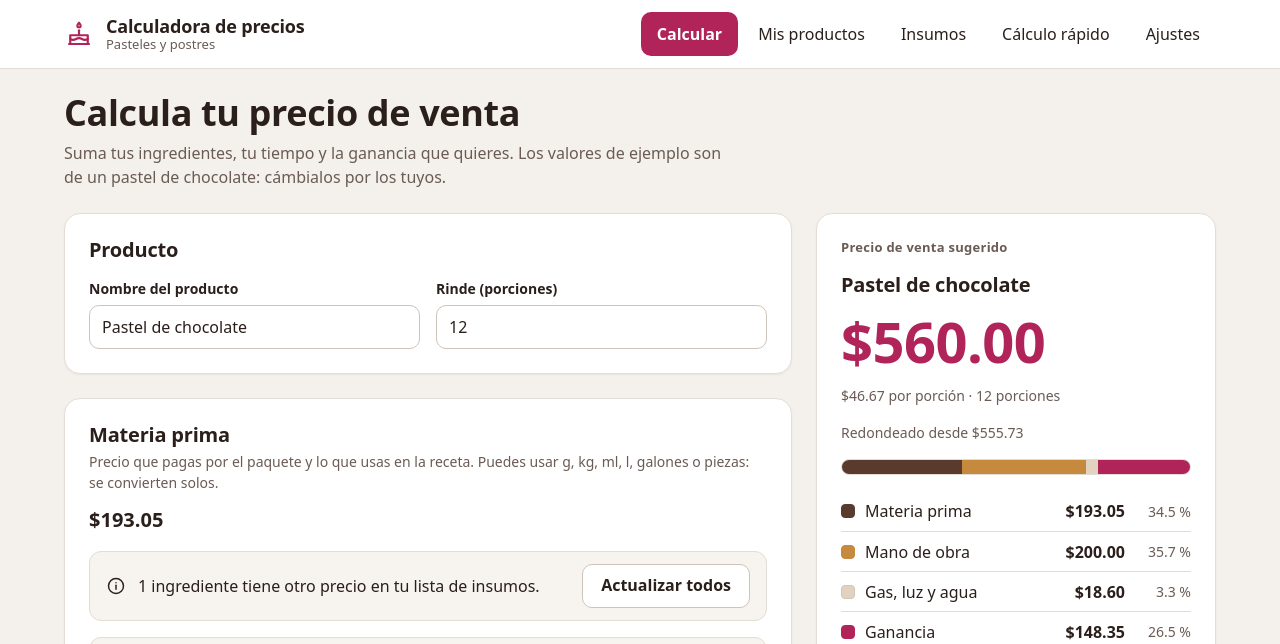
Insumo picker in Calcular › shows the out-of-date notice and syncs from the list
Click the button "Actualizar todos". click: {"x": 666, "y": 586}
box: top-left (582, 564), bottom-right (750, 608)
(page scrolled)
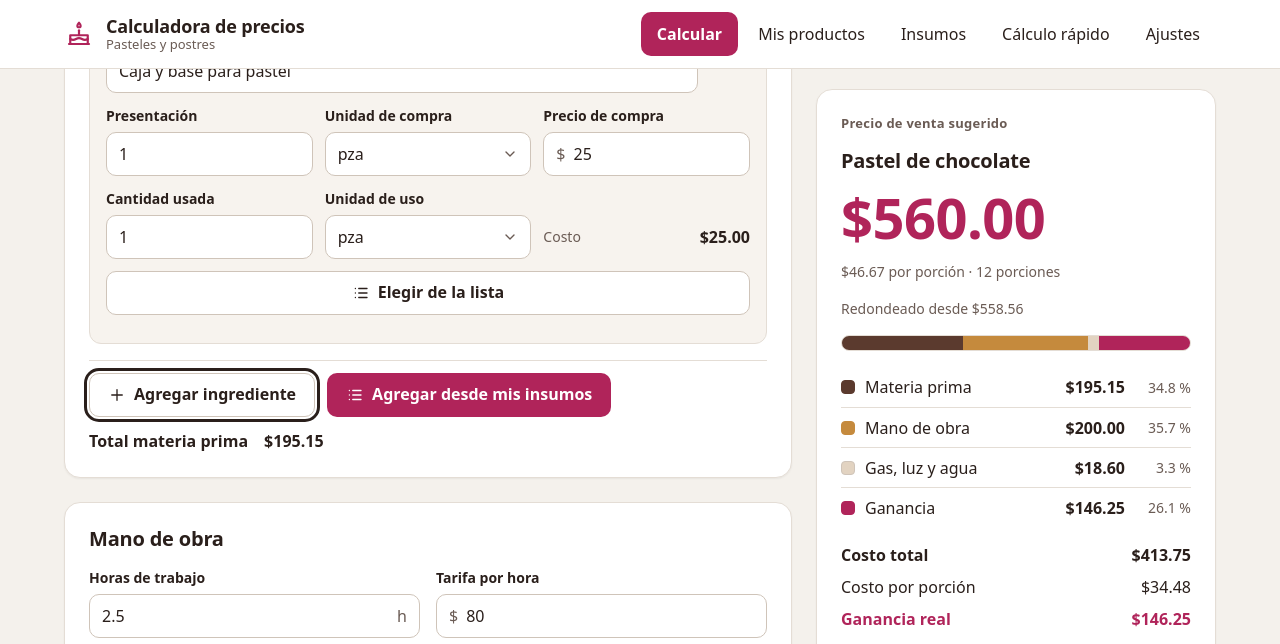
Expected: the text "tiene otro precio" is gone
